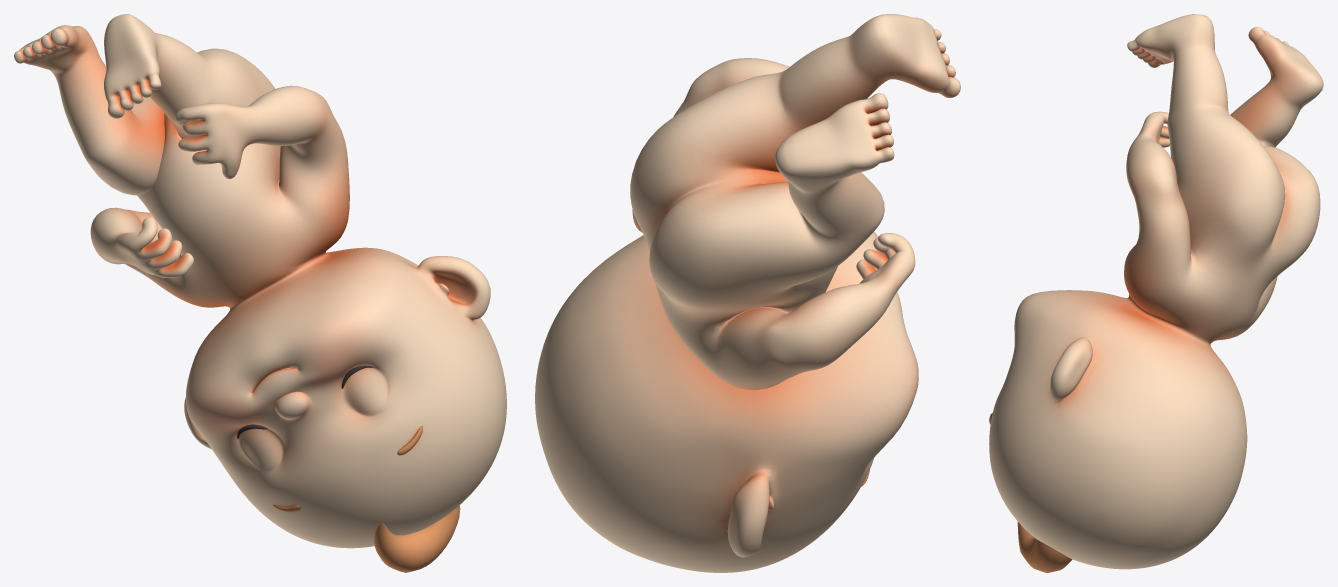
3 views of the same model, side by side, from view 1: azimuth 30°, elevation 25°; view 2: azimuth 150°, elevation 25°; view 3: azimuth 270°, elevation 25° (orthographic). The views are drawn at different scales.
Visible parts, largest first — view 1: Roundcube.008, BézierCurve.001; view 2: Roundcube.008; view 3: Roundcube.008, BézierCurve.001.
Part boxes in pixels (x1,y1,x2,y2): Roundcube.008: (14, 14, 506, 548); BézierCurve.001: (374, 505, 460, 572); Roundcube.008: (535, 14, 960, 572); Roundcube.008: (989, 14, 1323, 569); BézierCurve.001: (1017, 521, 1072, 572).
Size of the model in its own units: 3.75 by 5.1 by 3.3.
1 material, 1 textured.
